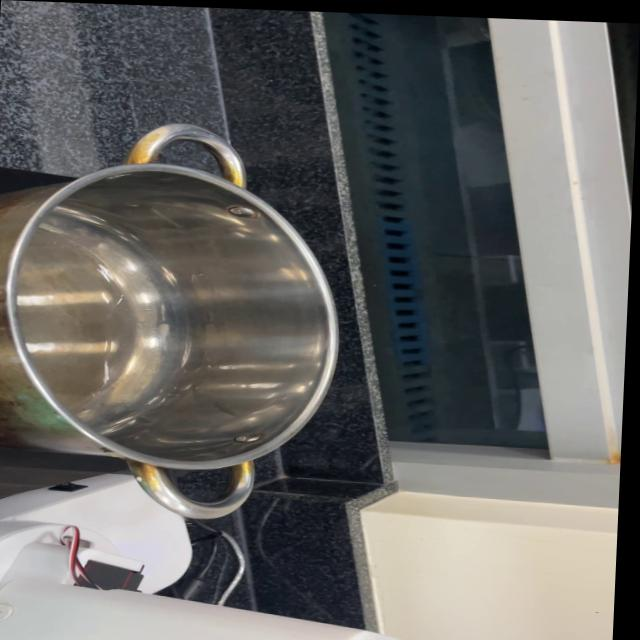cooking_pot: (0, 115, 350, 522)
